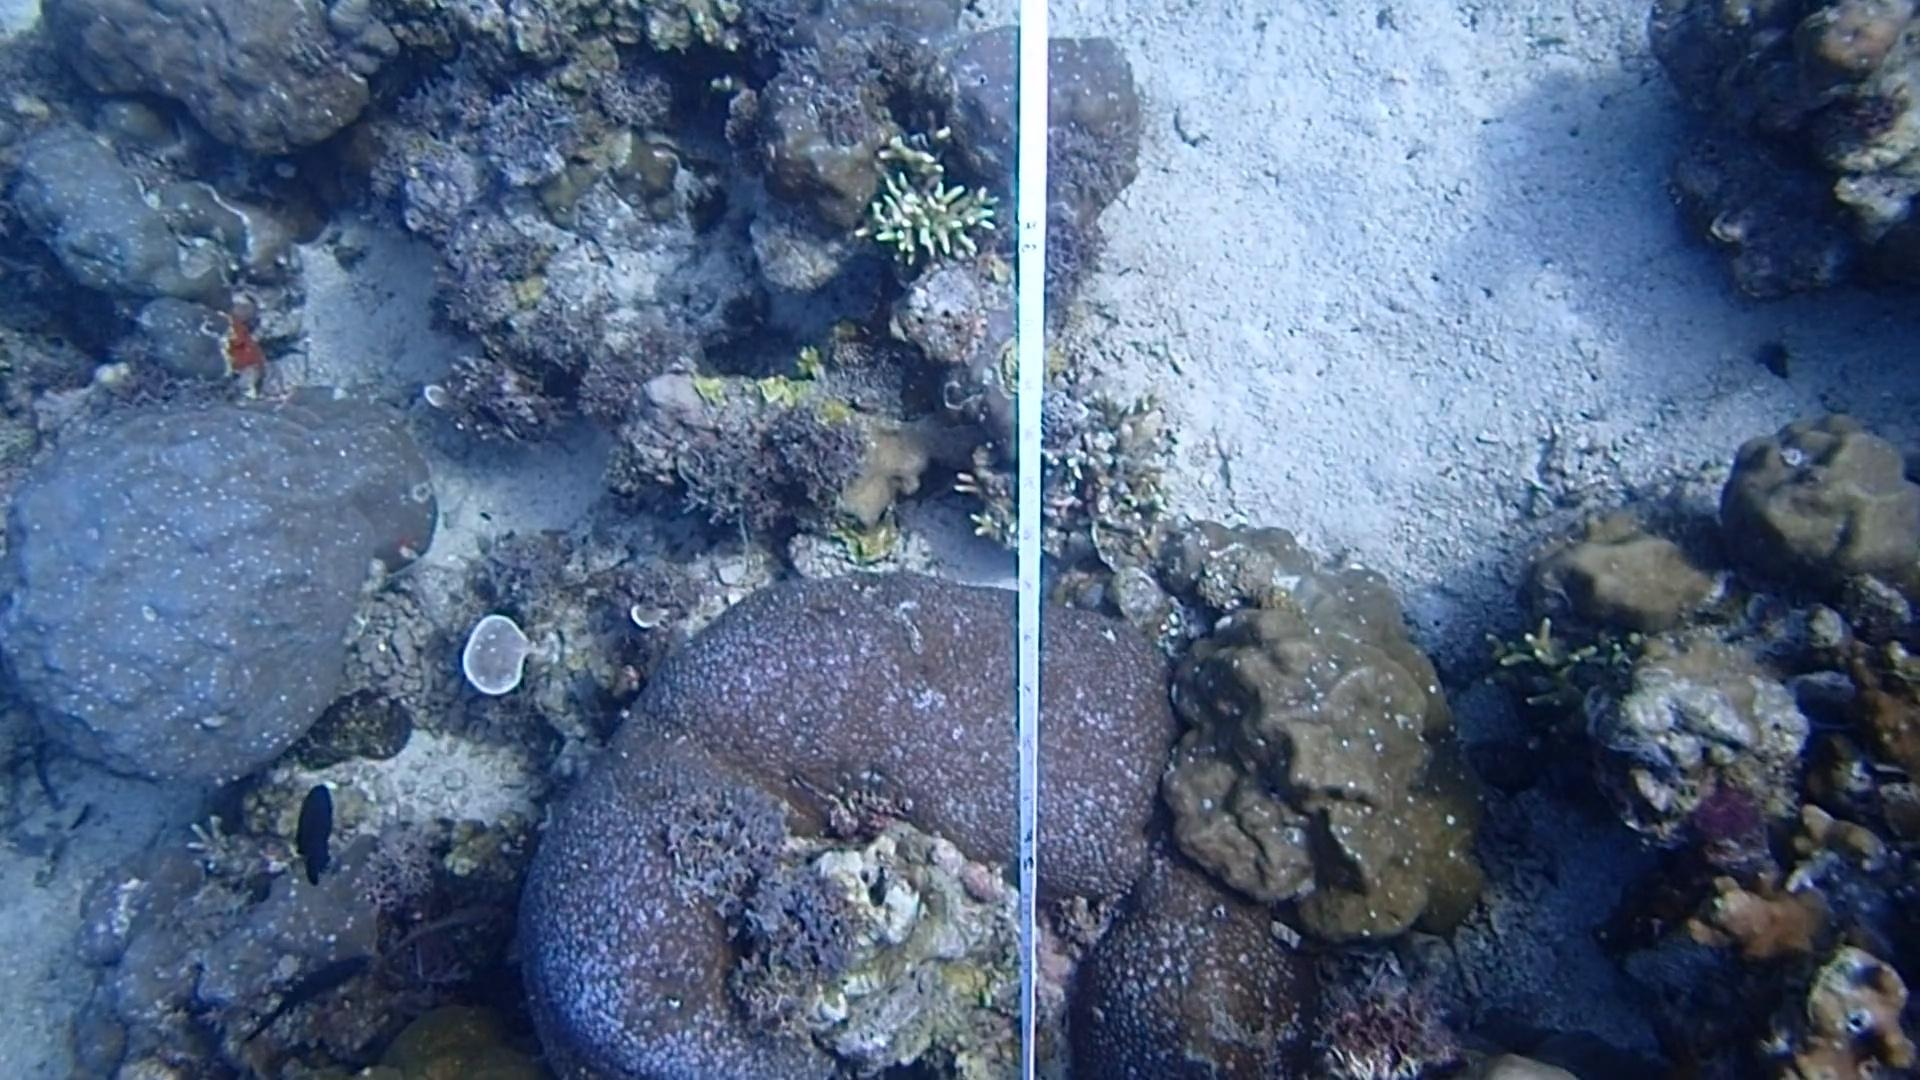Dark Fish: (285, 771, 339, 891)
